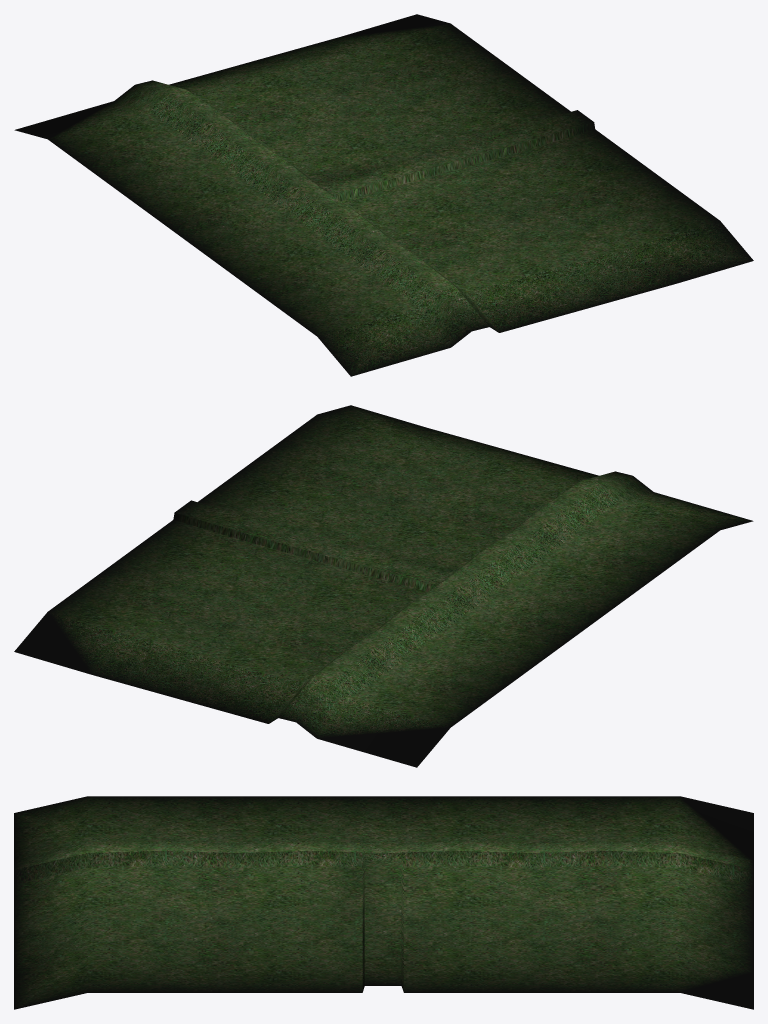
Rendered from TANBO1_L.glb.
The picture shows the model from 3 angles, top to bottom: view 1: azimuth 30°, elevation 25°; view 2: azimuth 150°, elevation 25°; view 3: azimuth 270°, elevation 25°; orthographic projection. The views are drawn at different scales.
Parts seen in each view (by area): view 1: Tanbo1; view 2: Tanbo1; view 3: Tanbo1.
Boxes of the visible parts, x1,y1,x2,y2 form: Tanbo1: (14,14,753,376); Tanbo1: (14,405,753,767); Tanbo1: (14,796,753,1009).
Bounding box in the file's own units: 86.32 × 8.05 × 125.
Materials: 2 (2 with a texture image).
